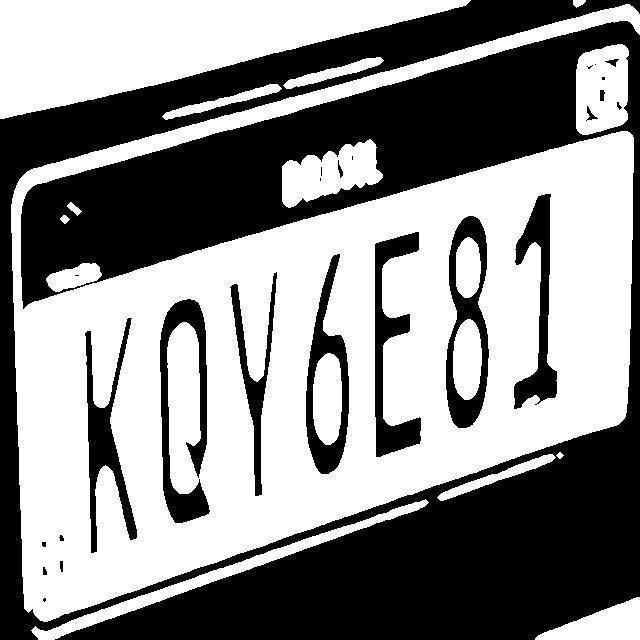1: (510, 190, 562, 420)
6: (301, 249, 357, 487)
8: (438, 212, 494, 437)
e: (366, 229, 426, 463)
k: (82, 314, 139, 560)
q: (156, 293, 213, 542)
y: (225, 266, 284, 510)
